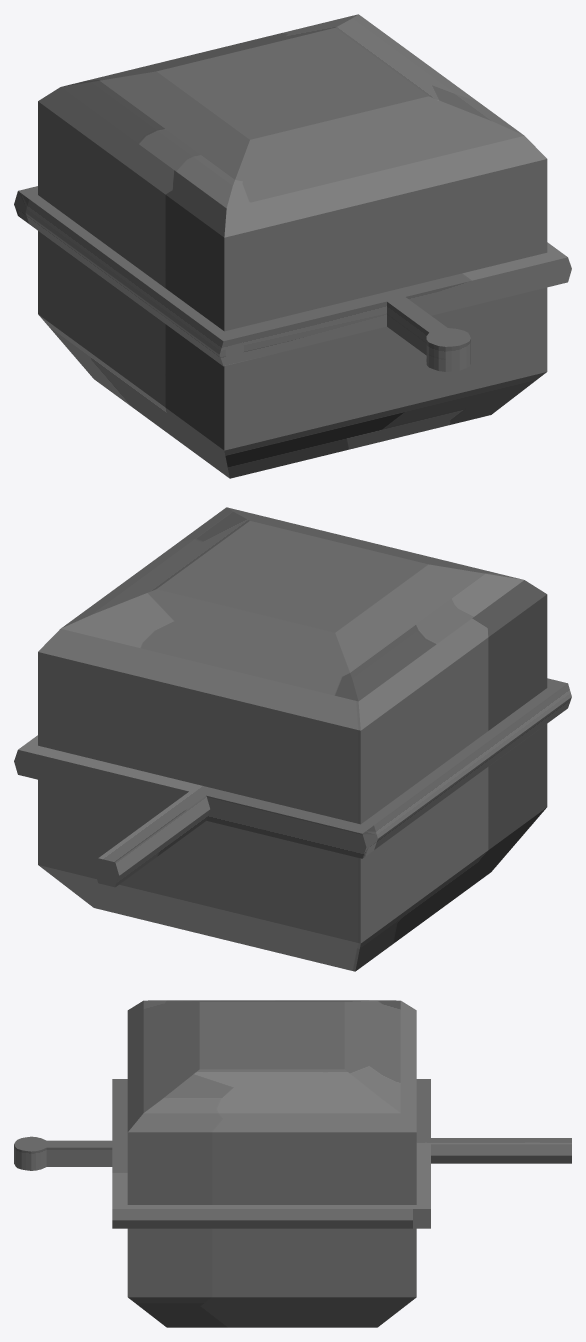
The model's file is cargo.glb.
The picture shows the model from 3 angles, top to bottom: view 1: azimuth 30°, elevation 25°; view 2: azimuth 150°, elevation 25°; view 3: azimuth 270°, elevation 25°; orthographic projection. The views are drawn at different scales.
Visible parts, largest first — view 1: Cube.003; view 2: Cube.003; view 3: Cube.003.
Part boxes in pixels (x1,y1,x2,y2): Cube.003: [14, 14, 571, 478]; Cube.003: [14, 507, 571, 971]; Cube.003: [14, 1000, 571, 1327].
Size of the model in its own units: 4.71 by 4 by 8.34.
Materials: 1 (1 with a texture image).
